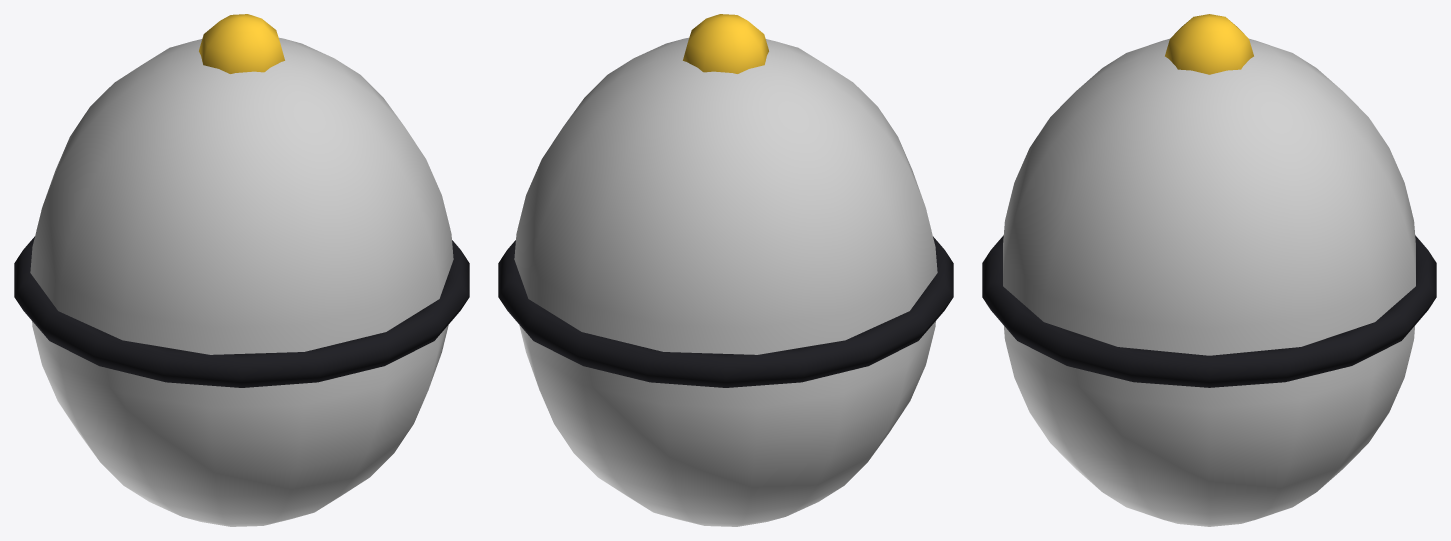
File: prize_capsule.fbx
3 views of the same model, side by side, from view 1: azimuth 30°, elevation 25°; view 2: azimuth 150°, elevation 25°; view 3: azimuth 270°, elevation 25° (orthographic).
Parts seen in each view (by area): view 1: prize_capsule; view 2: prize_capsule; view 3: prize_capsule.
Boxes of the visible parts, x1,y1,x2,y2 form: prize_capsule: [14, 14, 469, 526]; prize_capsule: [498, 14, 953, 526]; prize_capsule: [982, 14, 1436, 526].
Size of the model in its own units: 0.91 by 1.07 by 0.8962.
